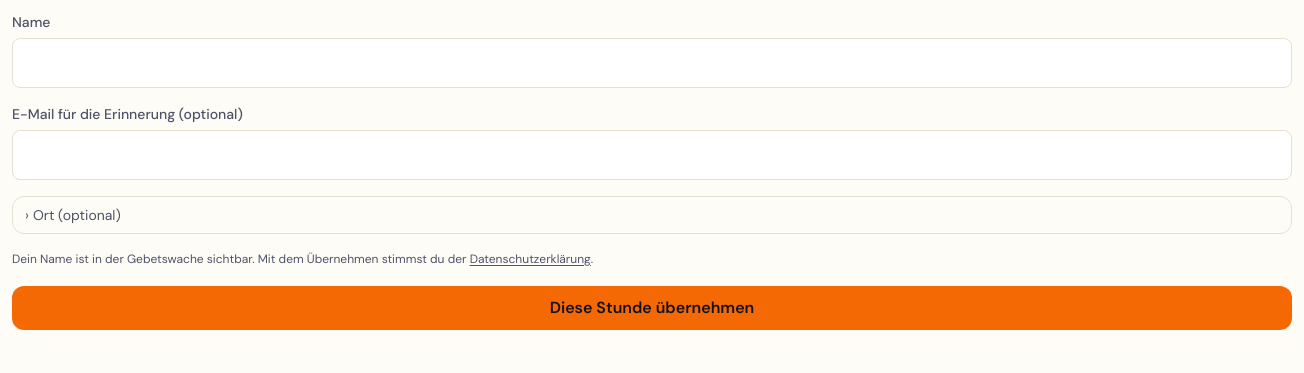
Scenario: GuestBookingForm — E-Mail ist optional (fix2) › ungültige, nicht-leere E-Mail bleibt ein Validierungsfehler
Type "fix2 Gast" into the field labelled "Name".
click(652, 63); type("fix2 Gast")  # box x1=12 y1=38 x2=1292 y2=88
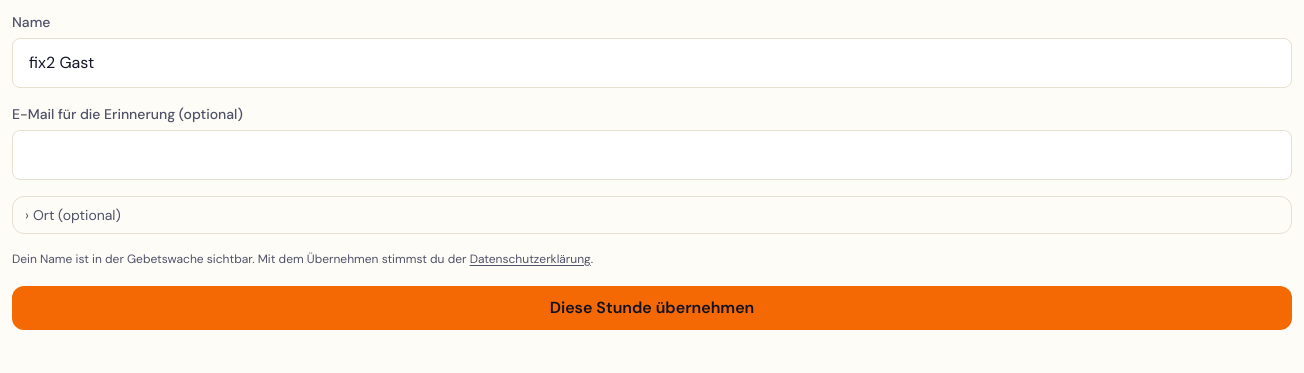
Type "nicht-valide" into the field labelled "E-Mail für die Erinnerung (optional)".
click(652, 155); type("nicht-valide")  # box x1=12 y1=130 x2=1292 y2=180
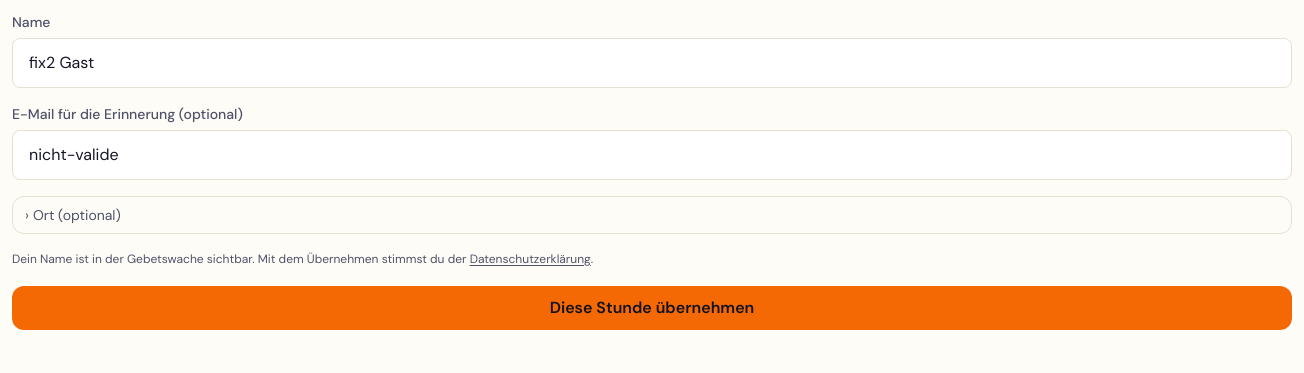
Submit the form
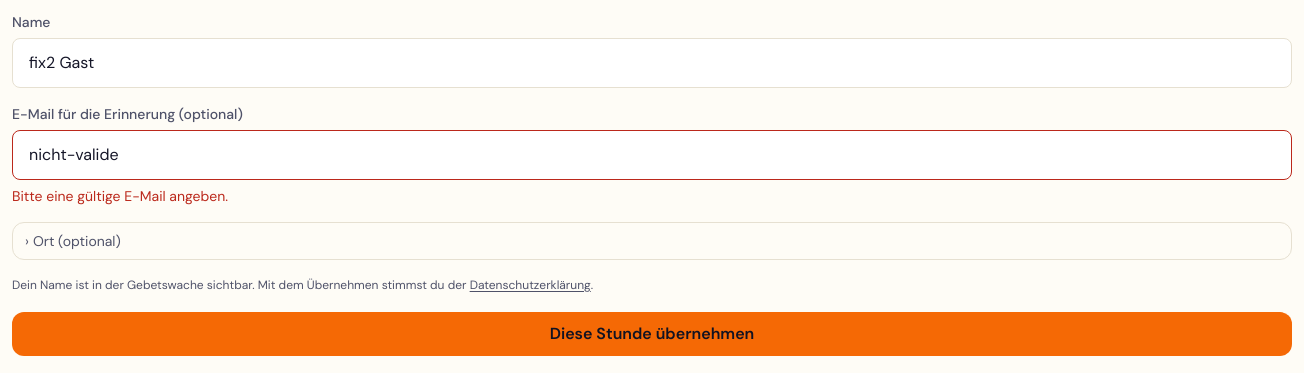
Now the text "Bitte eine gültige E-Mail angeben." is shown, box x1=12 y1=187 x2=228 y2=205
